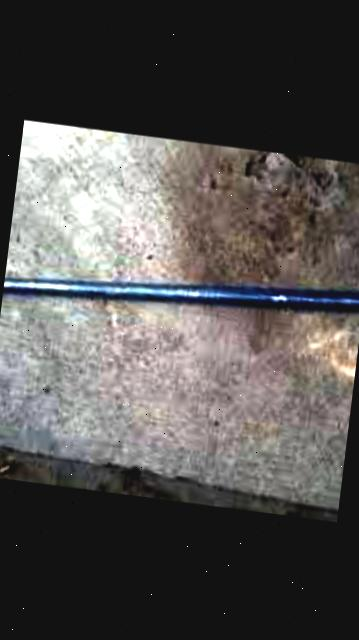crow bar: (0, 217, 359, 367)
